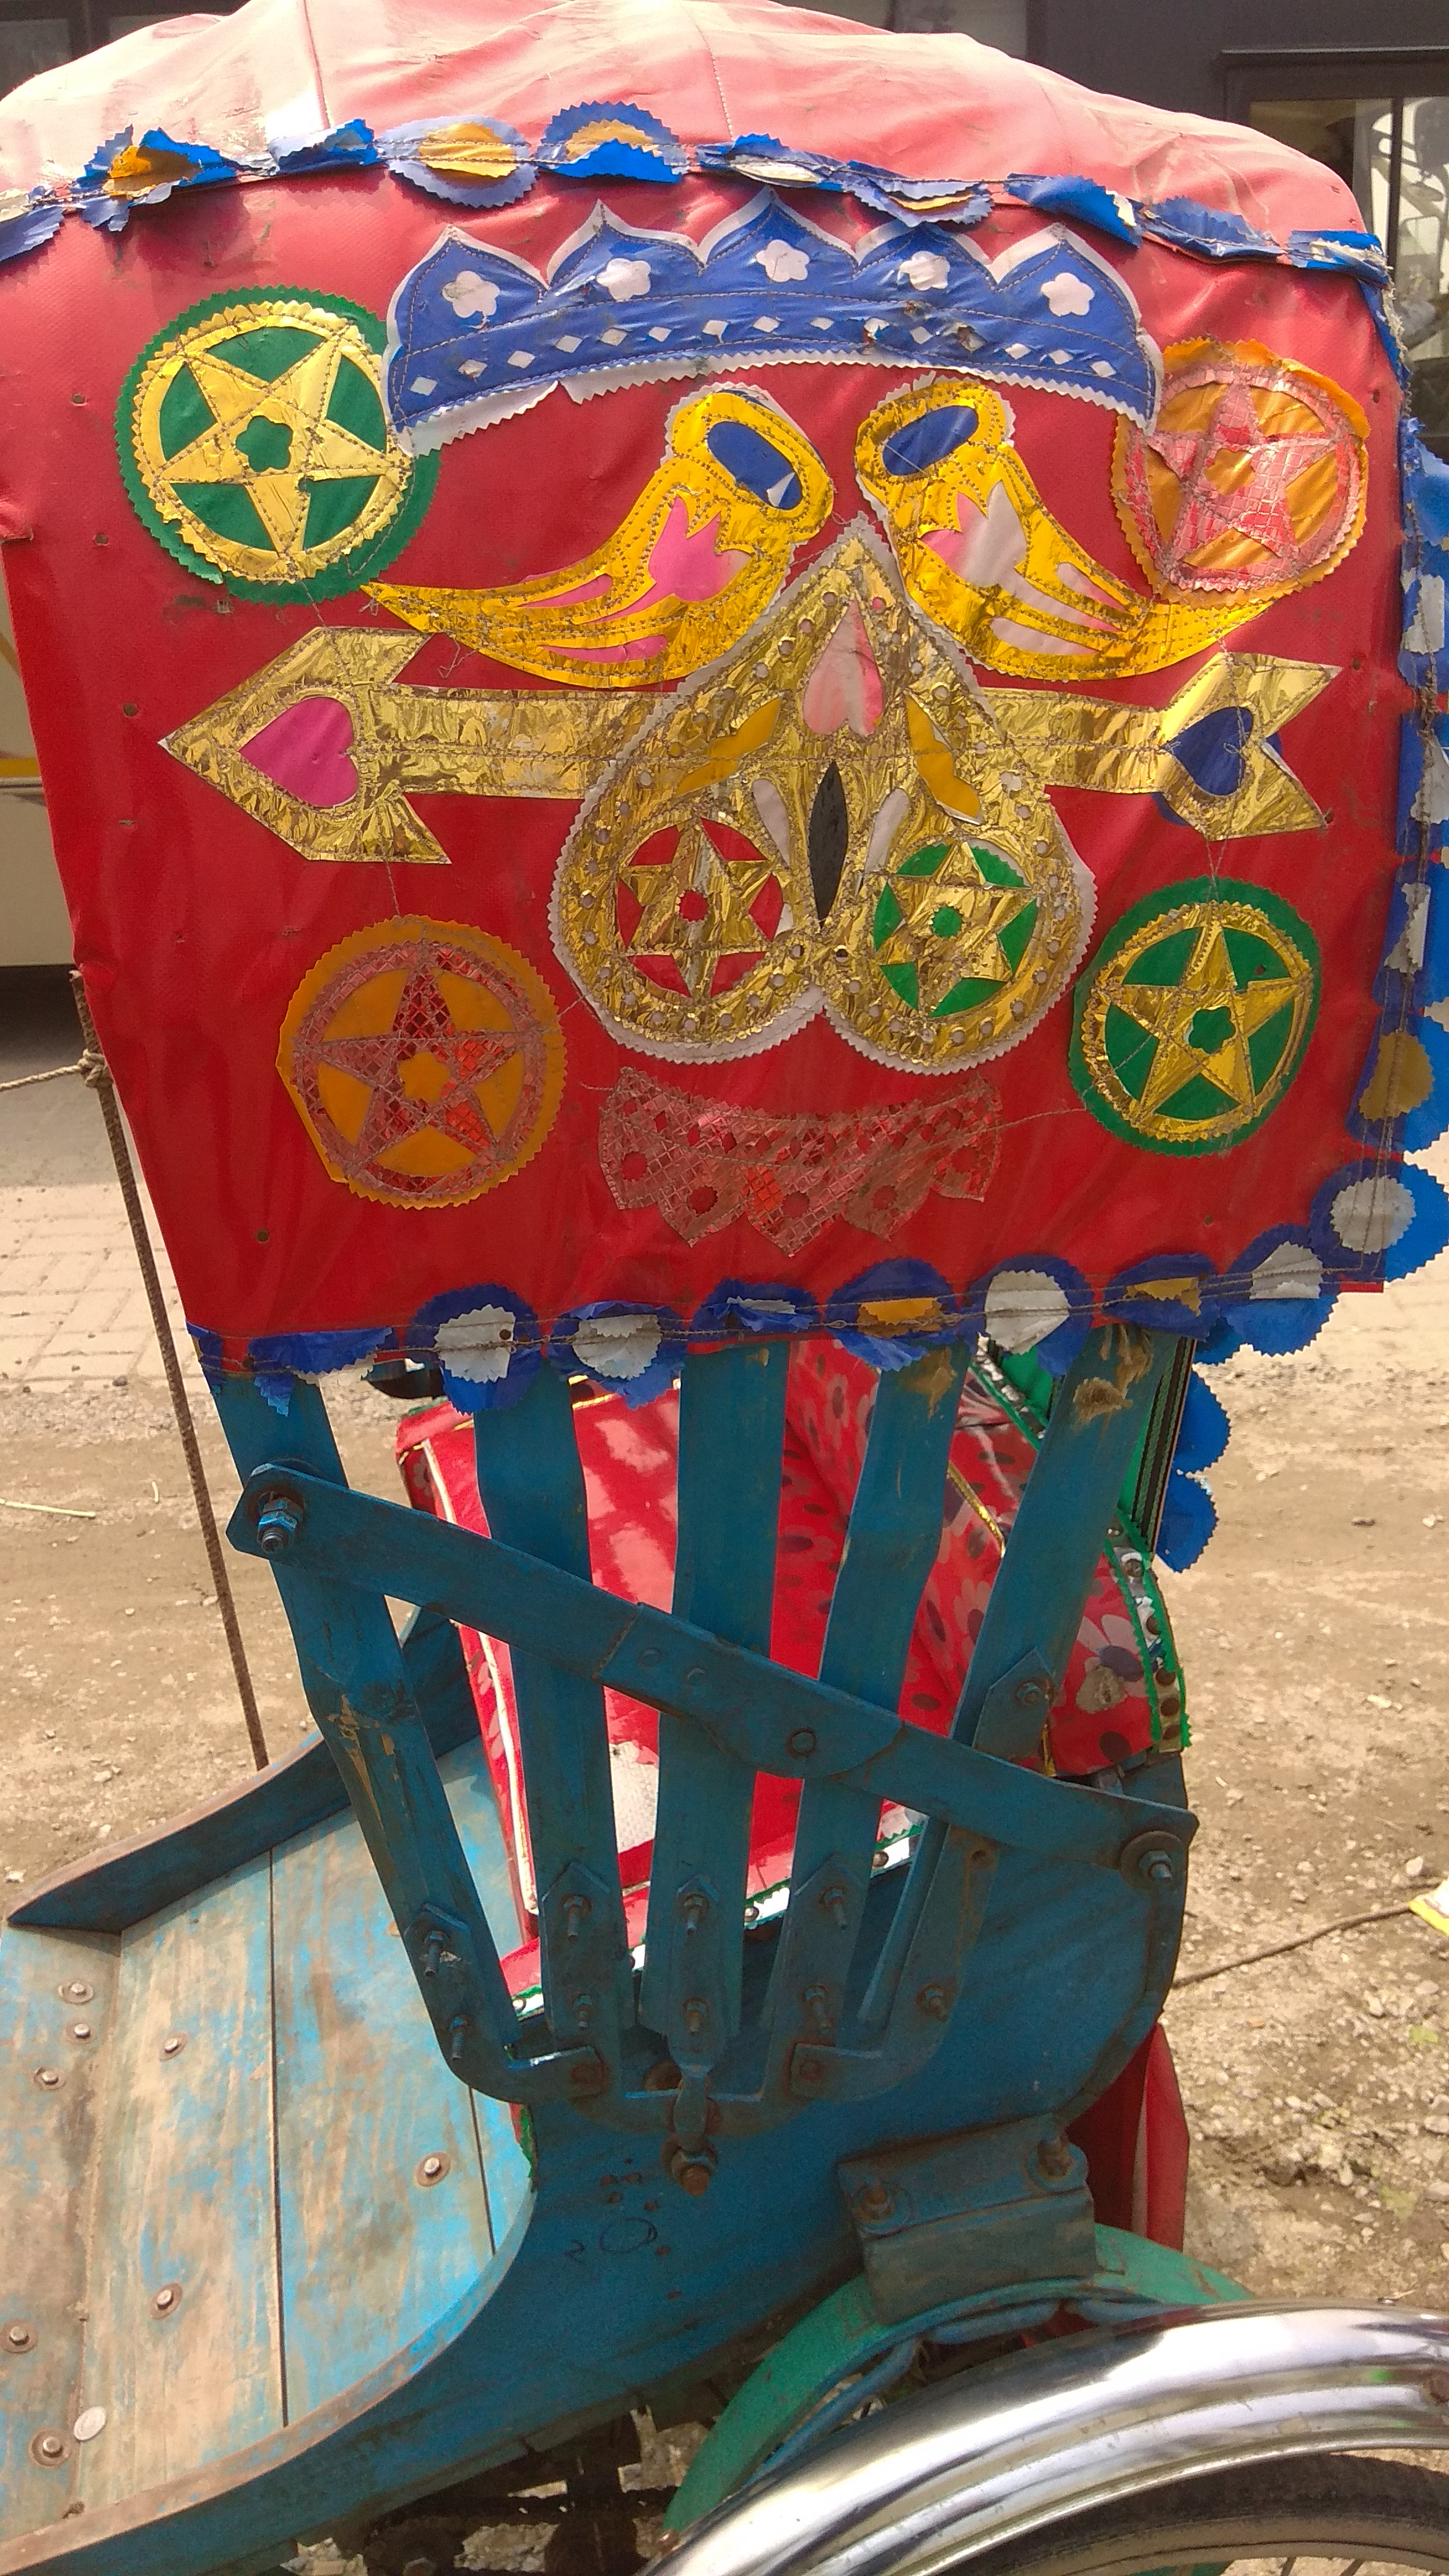Rickshaw: (4, 11, 1447, 2344)
